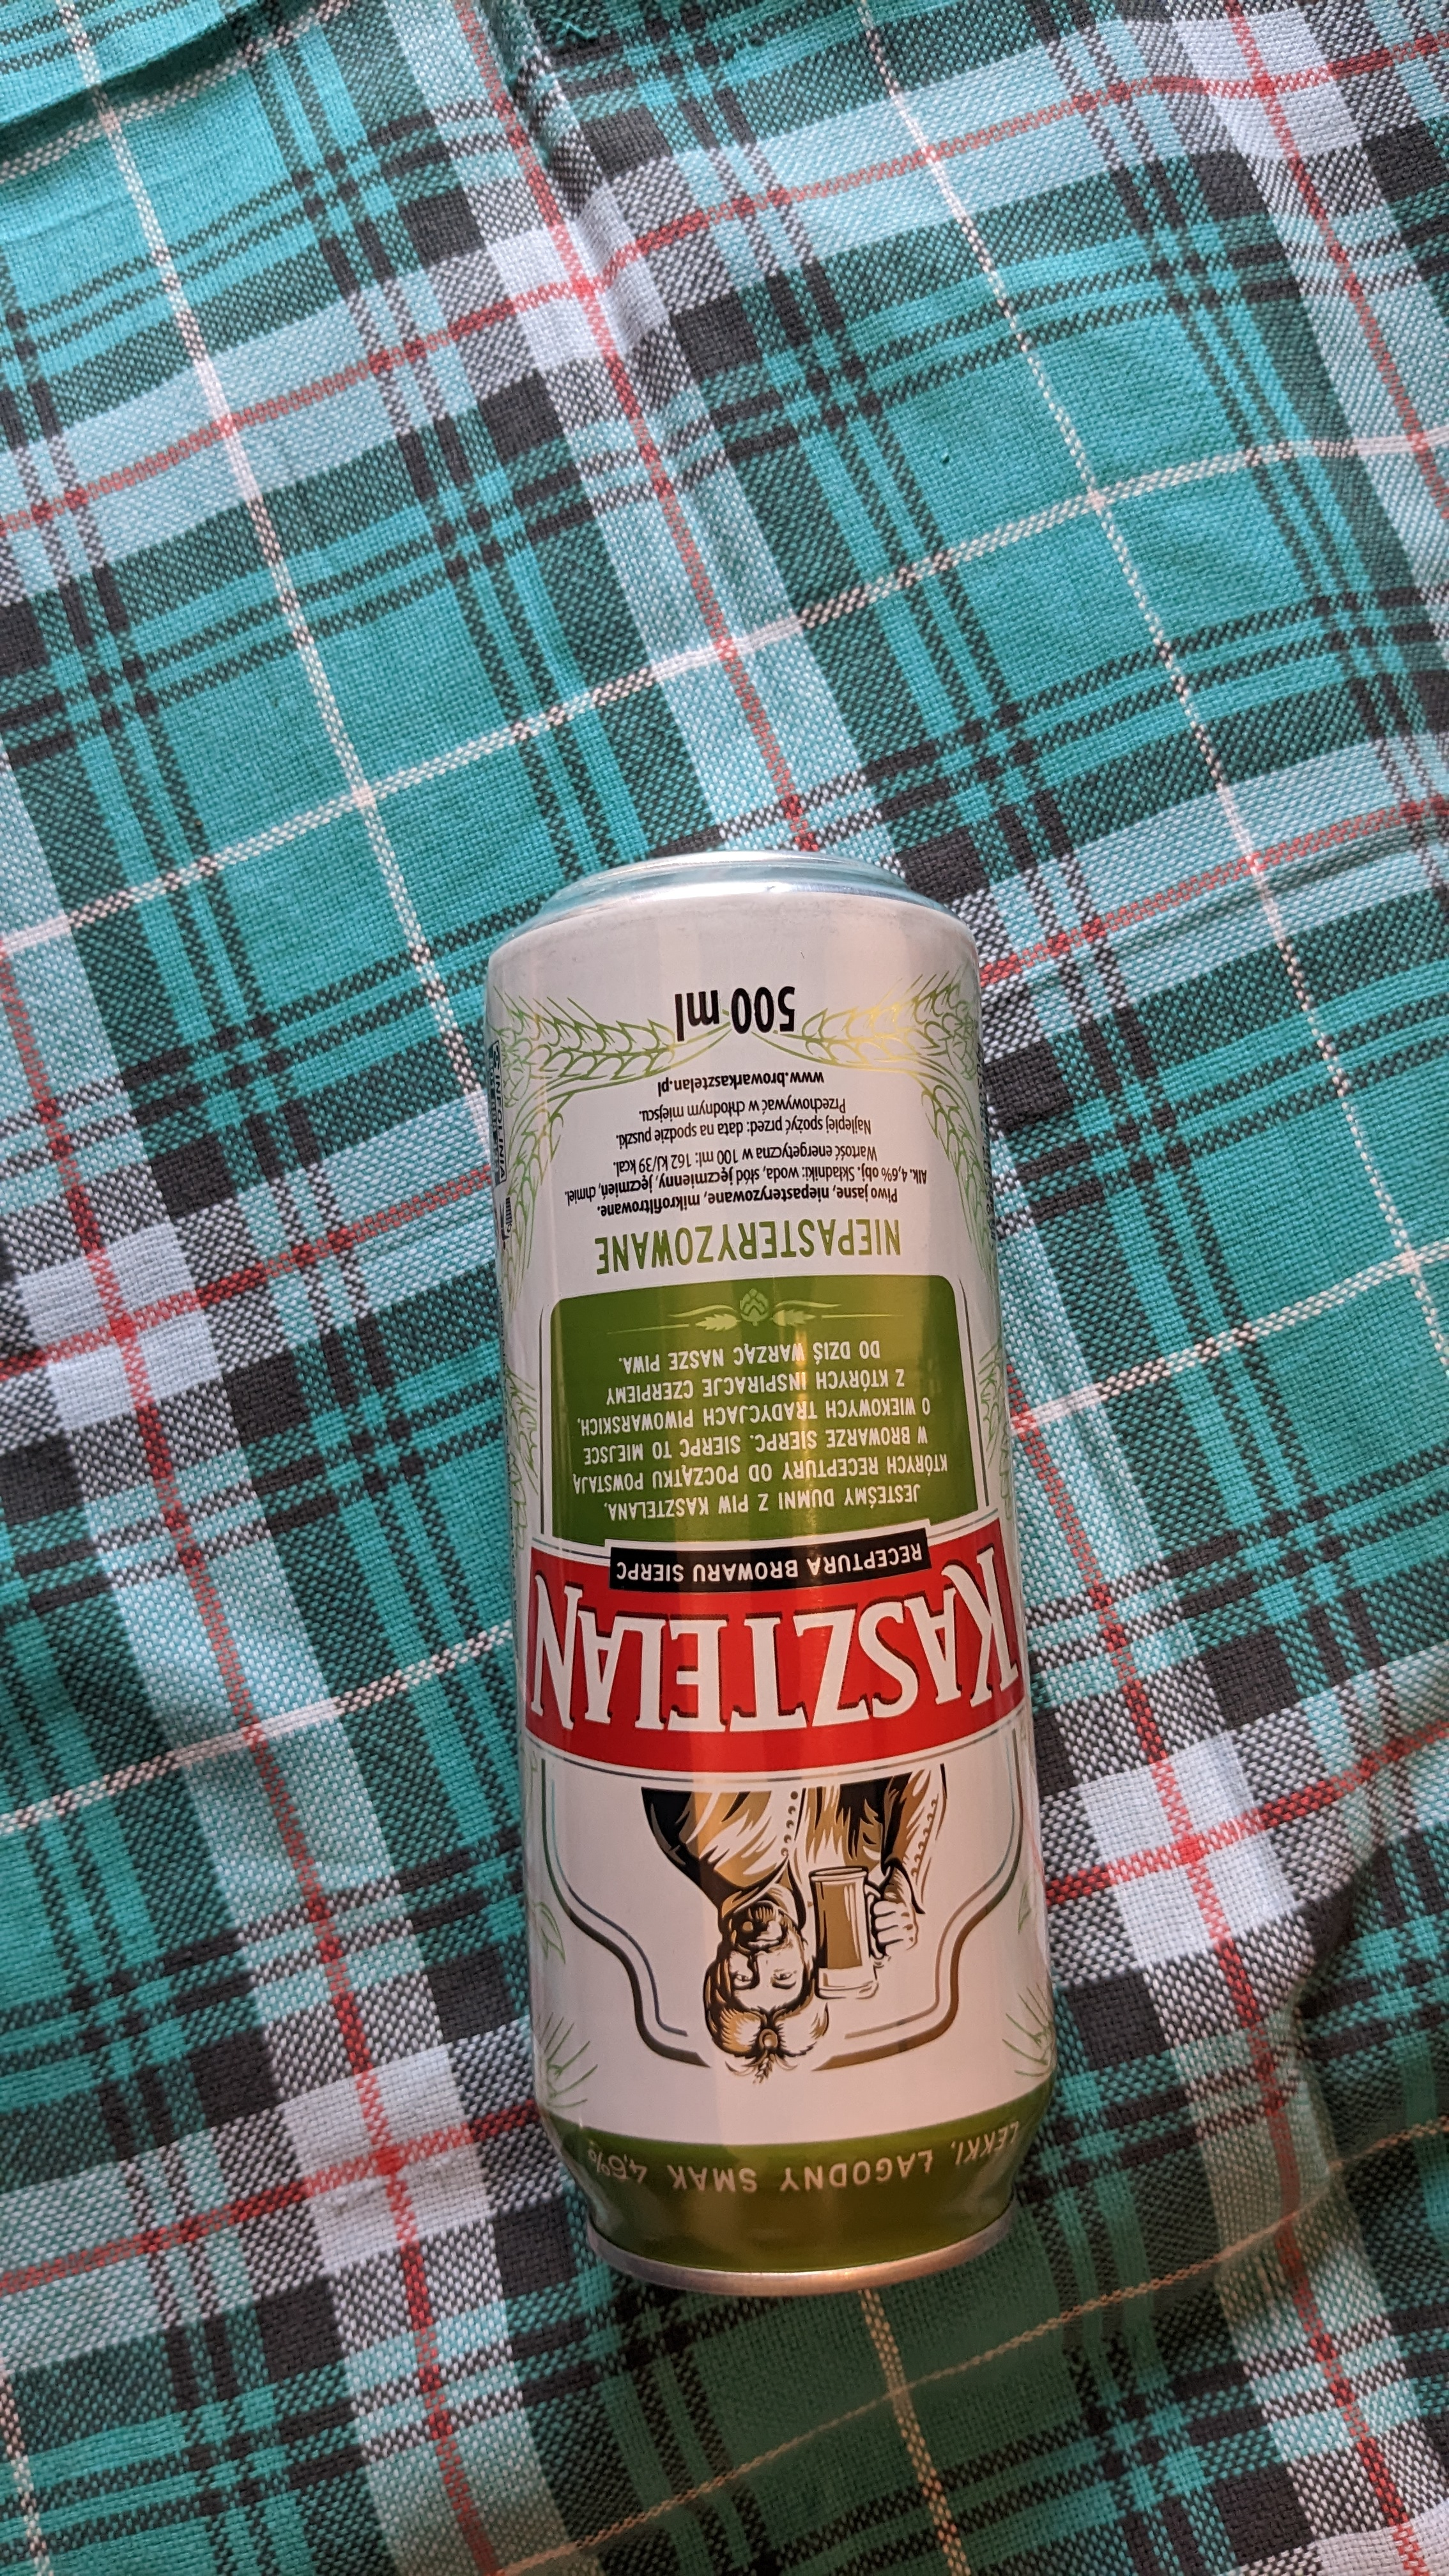kasztelan: (488, 855, 1090, 2307)
